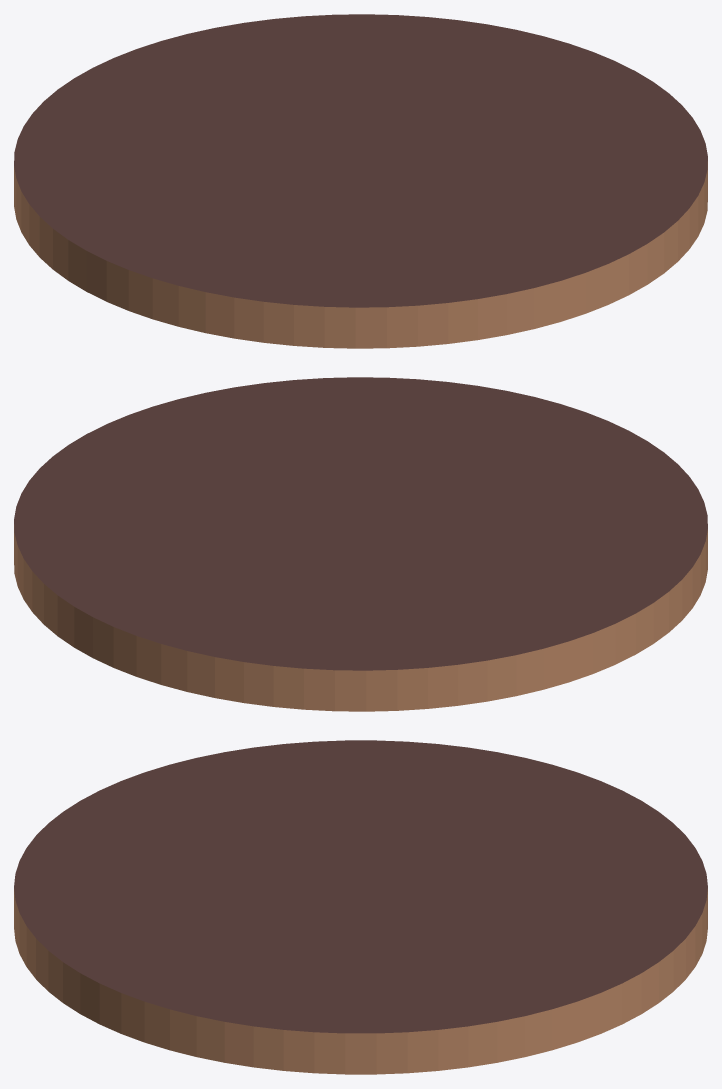
The model's file is Res01_Cutting_Plate_04.fbx.
The picture shows the model from 3 angles, top to bottom: view 1: azimuth 30°, elevation 25°; view 2: azimuth 150°, elevation 25°; view 3: azimuth 270°, elevation 25°; orthographic projection.
Visible parts, largest first — view 1: Res01_Cutting_Plate_04; view 2: Res01_Cutting_Plate_04; view 3: Res01_Cutting_Plate_04.
Boxes of the visible parts, <box> form: Res01_Cutting_Plate_04: <box>14,14,707,348</box>; Res01_Cutting_Plate_04: <box>14,377,707,711</box>; Res01_Cutting_Plate_04: <box>14,740,707,1074</box>.
Bounding box in the file's own units: 92.7 × 6.05 × 92.79.
